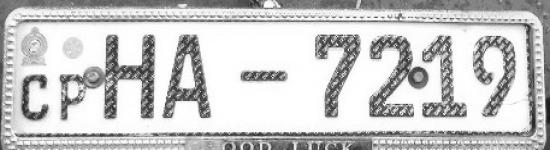-: (238, 66, 293, 88)
1: (421, 29, 472, 127)
2: (369, 30, 418, 123)
7: (306, 25, 366, 124)
9: (473, 30, 524, 126)
A: (162, 27, 224, 122)
C: (15, 71, 54, 128), (56, 71, 88, 126)
H: (100, 28, 160, 124)
